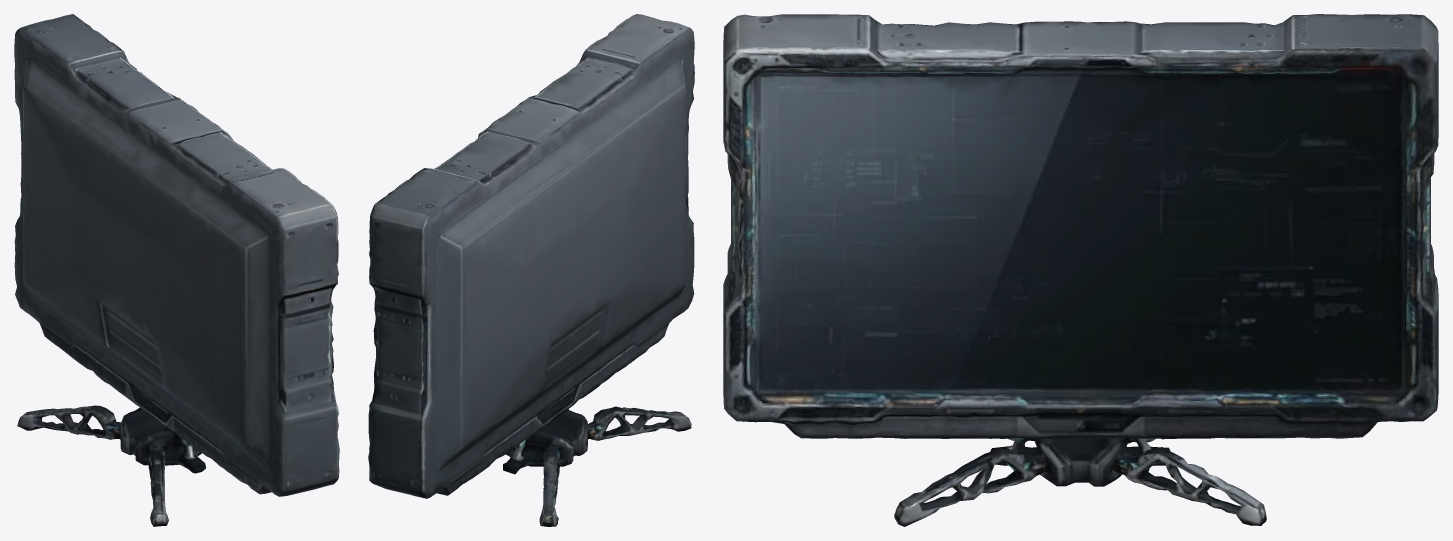
File: 23_futuristic_monitor.glb
3 views of the same model, side by side, from view 1: azimuth 30°, elevation 25°; view 2: azimuth 150°, elevation 25°; view 3: azimuth 270°, elevation 25° (orthographic). The views are drawn at different scales.
Visible parts, largest first — view 1: geometry_0; view 2: geometry_0; view 3: geometry_0.
Boxes of the visible parts, x1,y1,x2,y2 form: geometry_0: [14, 14, 339, 526]; geometry_0: [368, 14, 694, 526]; geometry_0: [723, 14, 1438, 526].
Bounding box in the file's own units: 0.3396 × 0.6816 × 0.9784.
1 material, 1 textured.
